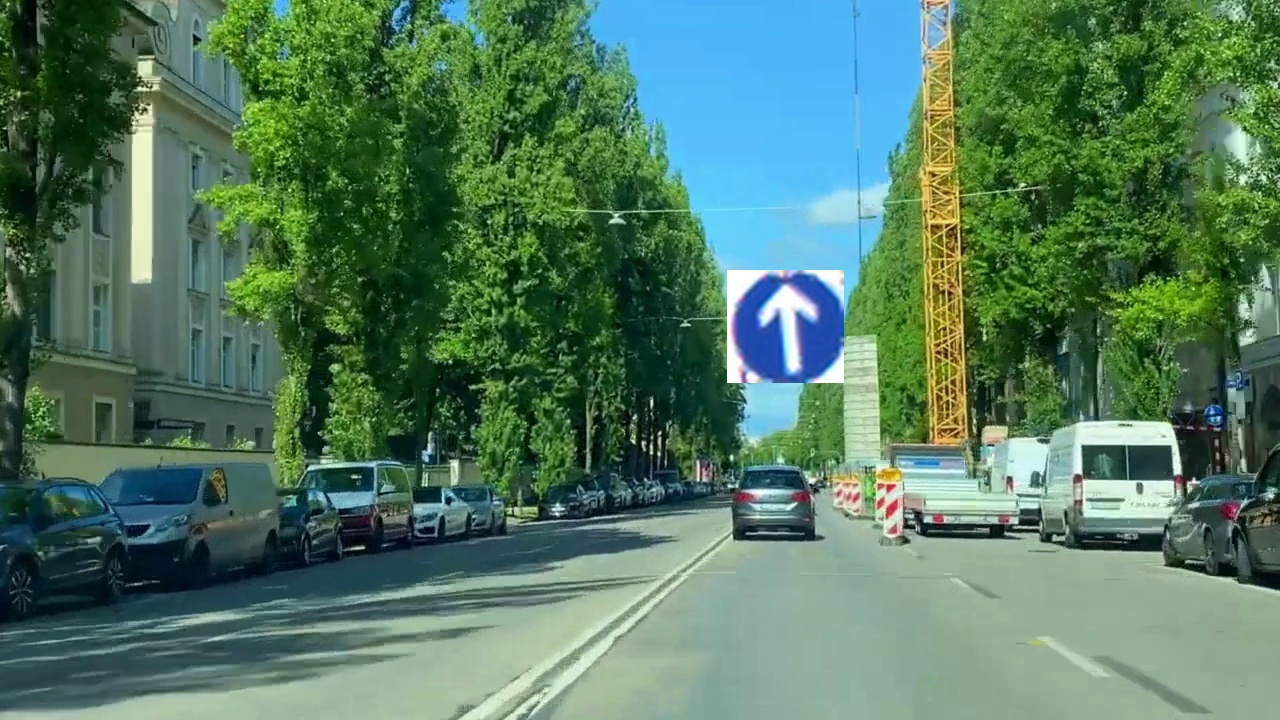Ahead only: (727, 270, 844, 383)
